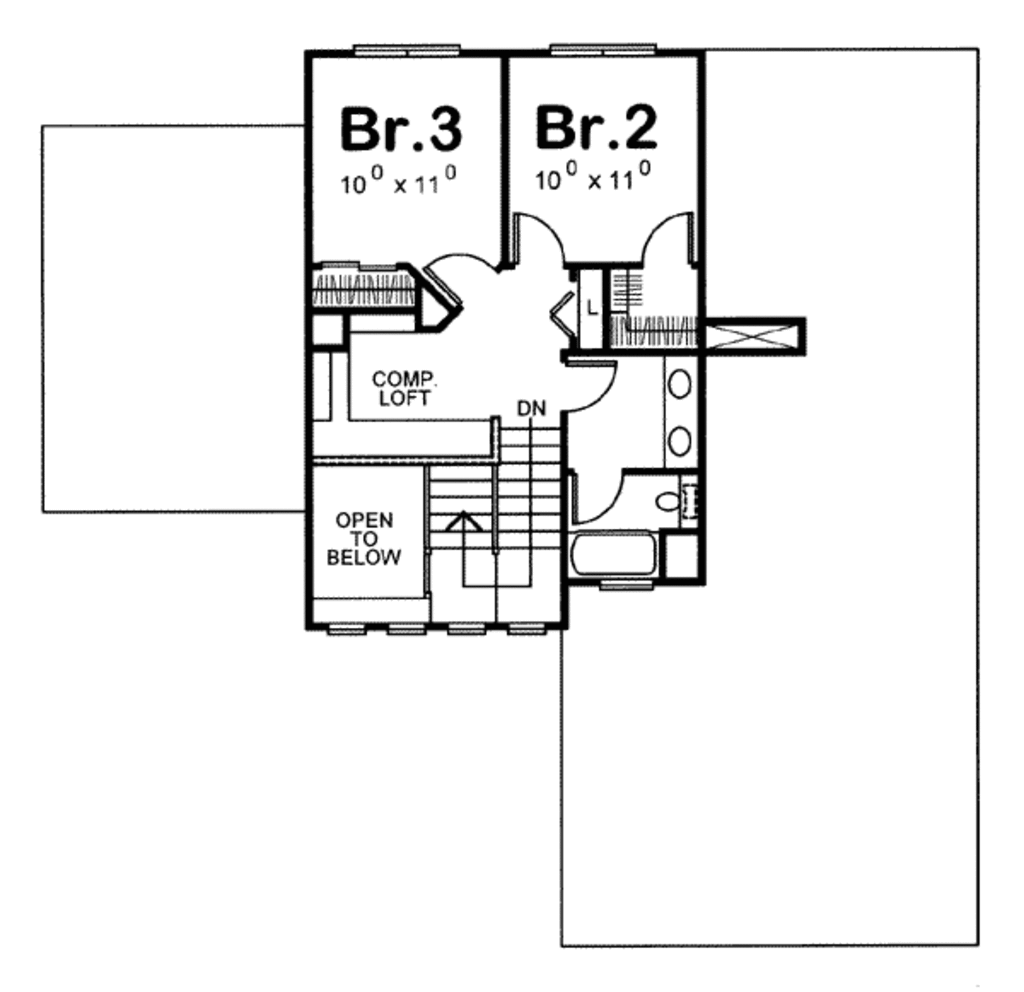door: (423, 252, 501, 305), (570, 465, 628, 524), (638, 208, 701, 262), (511, 211, 572, 265), (561, 361, 620, 412)
large_sink: (632, 471, 699, 523)
small_sink: (657, 364, 697, 470)
stairs: (408, 409, 563, 606)
tub: (568, 531, 666, 577)
window: (587, 573, 658, 599), (549, 38, 649, 55), (351, 41, 464, 55), (507, 618, 551, 644), (440, 618, 487, 639), (381, 618, 429, 638), (329, 623, 369, 636)
